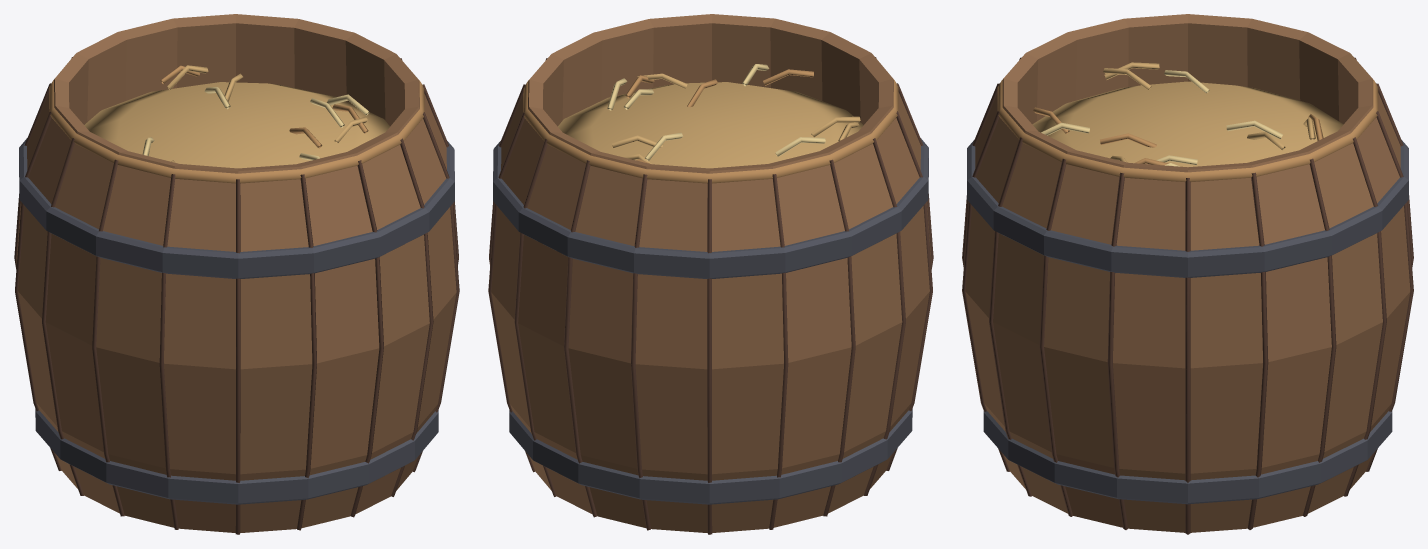
Rendered from keg.glb.
The picture shows the model from 3 angles, left to right: view 1: azimuth 30°, elevation 25°; view 2: azimuth 150°, elevation 25°; view 3: azimuth 270°, elevation 25°; orthographic projection.
Visible parts, largest first — view 1: keg; view 2: keg; view 3: keg.
Part boxes in pixels (x1,y1,x2,y2): keg: (14,14,459,534); keg: (488,14,933,534); keg: (962,14,1413,534).
Bounding box in the file's own units: 0.38 × 0.34 × 0.38.
